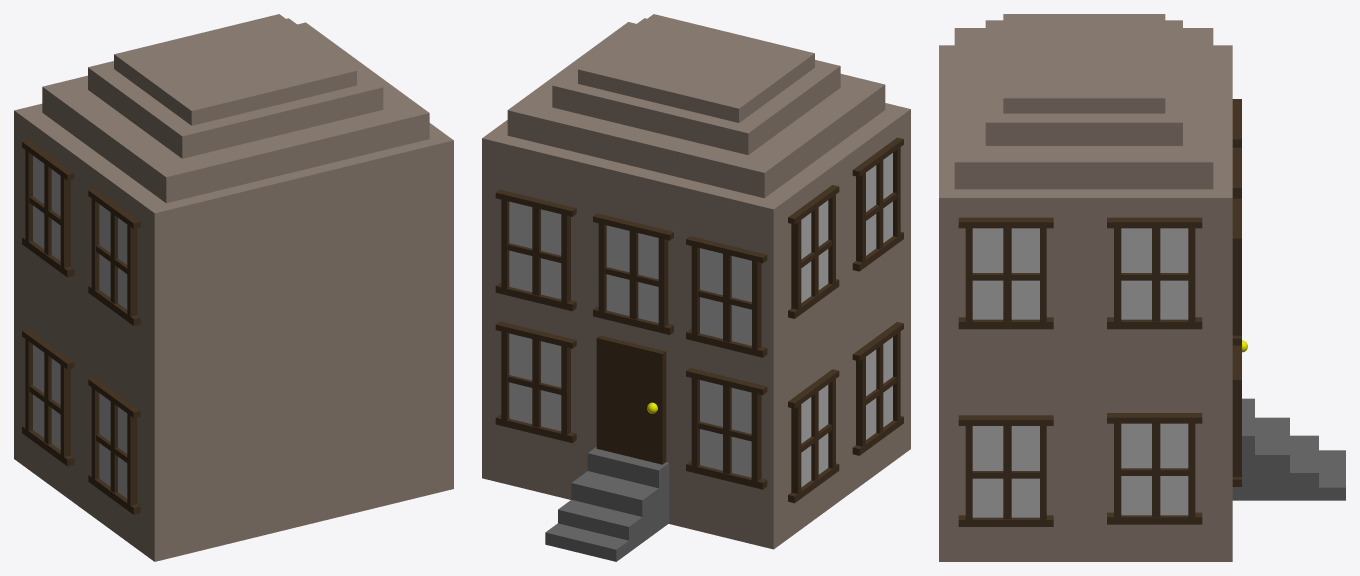
File: building.fbx
3 renders of one model, left to right at view 1: azimuth 30°, elevation 25°; view 2: azimuth 150°, elevation 25°; view 3: azimuth 270°, elevation 25°, orthographic. The views are drawn at different scales.
Visible parts, largest first — view 1: pCube1, pasted__pCube1, pasted__pasted__pasted__pCube1, pasted__pasted__pCube1, pCube12, pCube11, pCube13, pCube10; view 2: pCube1, pasted__pCube1, pasted__pasted__pasted__pCube1, pasted__pasted__pCube1, pCube9, pCube8, pCube7, pCube5, pCube4, pCube3, pCube6, pCube12 (+3 smaller); view 3: pCube1, pasted__pCube1, pasted__pasted__pasted__pCube1, pasted__pasted__pCube1, pCube14, pCube15, pCube17, pCube16, pCube9, pCube3, pCube6, pCube4.
Boxes of the visible parts, x1,y1,x2,y2 form: pCube1: [14, 103, 453, 561]; pasted__pCube1: [42, 22, 429, 203]; pasted__pasted__pasted__pCube1: [114, 14, 356, 125]; pasted__pasted__pCube1: [88, 18, 383, 158]; pCube12: [88, 188, 140, 325]; pCube11: [88, 377, 140, 514]; pCube13: [22, 140, 74, 277]; pCube10: [22, 329, 74, 466]; pCube1: [482, 103, 910, 549]; pasted__pCube1: [507, 22, 885, 198]; pasted__pasted__pasted__pCube1: [578, 14, 814, 122]; pasted__pasted__pCube1: [552, 18, 840, 155]; pCube9: [545, 447, 669, 561]; pCube8: [596, 335, 666, 464]; pCube7: [686, 368, 767, 489]; pCube5: [686, 236, 767, 357]; pCube4: [593, 213, 673, 334]; pCube3: [495, 189, 576, 311]; pCube6: [495, 321, 576, 443]; pCube12: [852, 137, 903, 271]; pCube1: [939, 45, 1232, 561]; pasted__pCube1: [954, 28, 1213, 189]; pasted__pasted__pasted__pCube1: [1003, 14, 1165, 113]; pasted__pasted__pCube1: [985, 20, 1182, 145]; pCube14: [1107, 217, 1202, 329]; pCube15: [958, 217, 1053, 329]; pCube17: [1107, 413, 1202, 524]; pCube16: [958, 415, 1053, 526]; pCube9: [1232, 398, 1345, 500]; pCube3: [1232, 198, 1241, 345]; pCube6: [1232, 345, 1241, 486]; pCube4: [1232, 147, 1241, 198].
Bounding box in the file's own units: 18.25 × 22.78 × 19.53.
